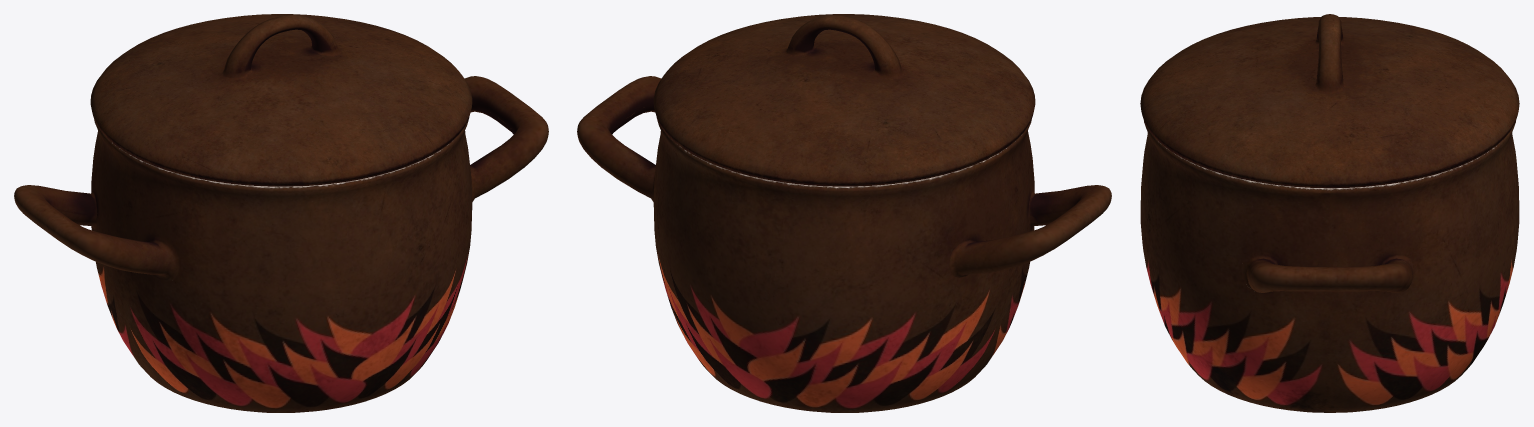
File: pot_enamel_01.glb
The picture shows the model from 3 angles, left to right: view 1: azimuth 30°, elevation 25°; view 2: azimuth 150°, elevation 25°; view 3: azimuth 270°, elevation 25°; orthographic projection.
Parts seen in each view (by area): view 1: pot_enamel_01_base, pot_enamel_01_lid; view 2: pot_enamel_01_base, pot_enamel_01_lid; view 3: pot_enamel_01_base, pot_enamel_01_lid.
Part boxes in pixels (left/top/right/bottom): pot_enamel_01_base: left=14, top=76, right=548, bottom=412; pot_enamel_01_lid: left=90, top=14, right=472, bottom=186; pot_enamel_01_base: left=577, top=76, right=1111, bottom=412; pot_enamel_01_lid: left=653, top=14, right=1035, bottom=186; pot_enamel_01_base: left=1140, top=121, right=1519, bottom=412; pot_enamel_01_lid: left=1140, top=14, right=1519, bottom=188.
Size of the model in its own units: 0.2629 by 0.1783 by 0.1805.
Materials: 1 (1 with a texture image).
